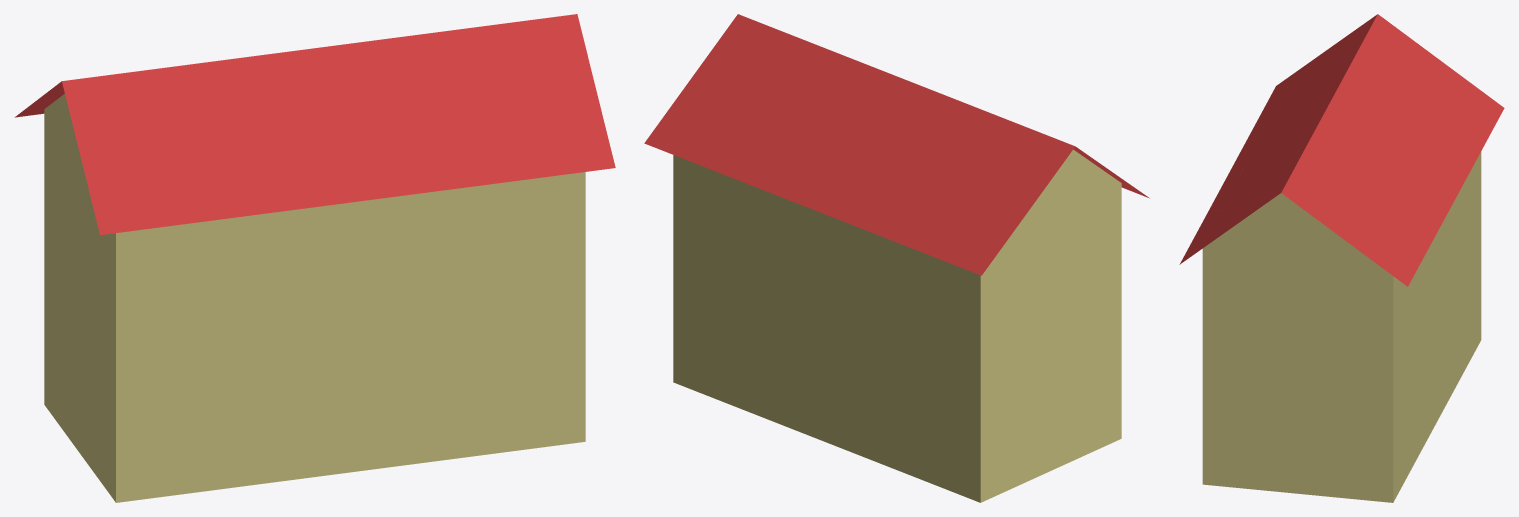
3 renders of one model, left to right at view 1: azimuth 30°, elevation 25°; view 2: azimuth 150°, elevation 25°; view 3: azimuth 270°, elevation 25°, orthographic. The views are drawn at different scales.
Bounding box in the file's own units: 12.23 × 8.37 × 8.73.
